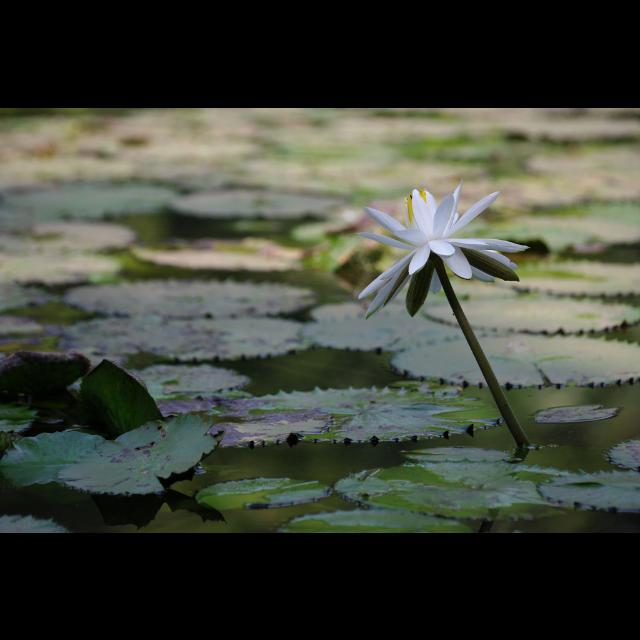Flower: (360, 181, 520, 319)
